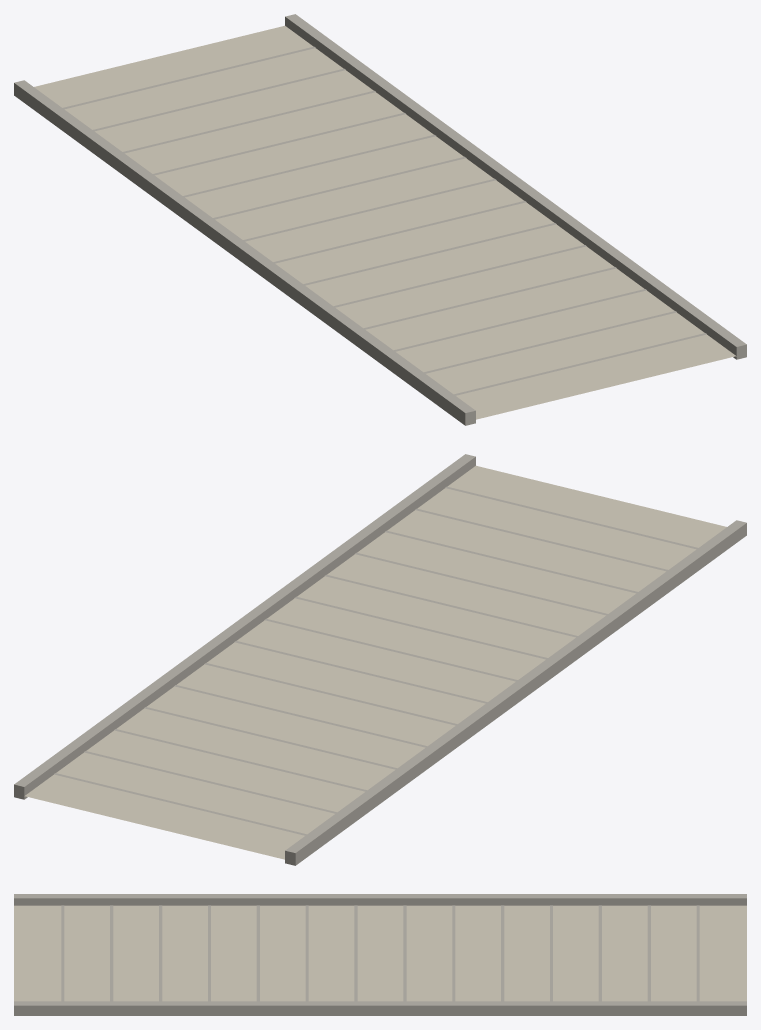
Rendered from allee.glb.
3 views of the same model, one above another, from view 1: azimuth 30°, elevation 25°; view 2: azimuth 150°, elevation 25°; view 3: azimuth 270°, elevation 25° (orthographic). The views are drawn at different scales.
Parts seen in each view (by area): view 1: allee; view 2: allee; view 3: allee.
Boxes of the visible parts, x1,y1,x2,y2 form: allee: (14, 14, 746, 425); allee: (14, 454, 746, 865); allee: (14, 894, 746, 1015).
Size of the model in its own units: 3.24 by 0.14 by 9.
1 material, 1 textured.
